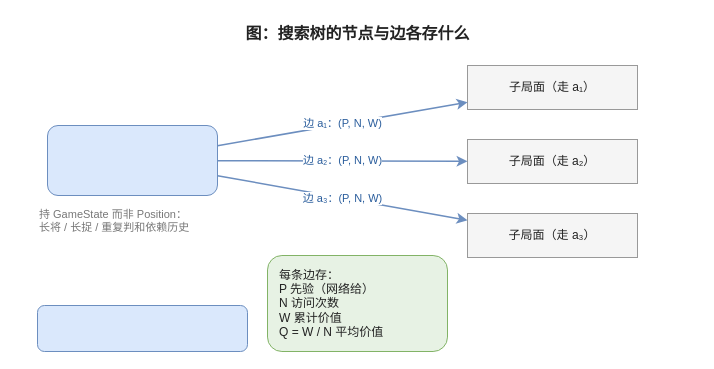
Image size: 714x369. Some labels were removed from this diagram. Here are the shapes that lost their labels. From the top down, the centre of each, then its label:
At point (132, 160): "节点 = 局面 s （GameState）".
At point (142, 328): "边只按当前合法走法存（几十条），远小于 8100 的完整动作空间，省内存也省计算。".
